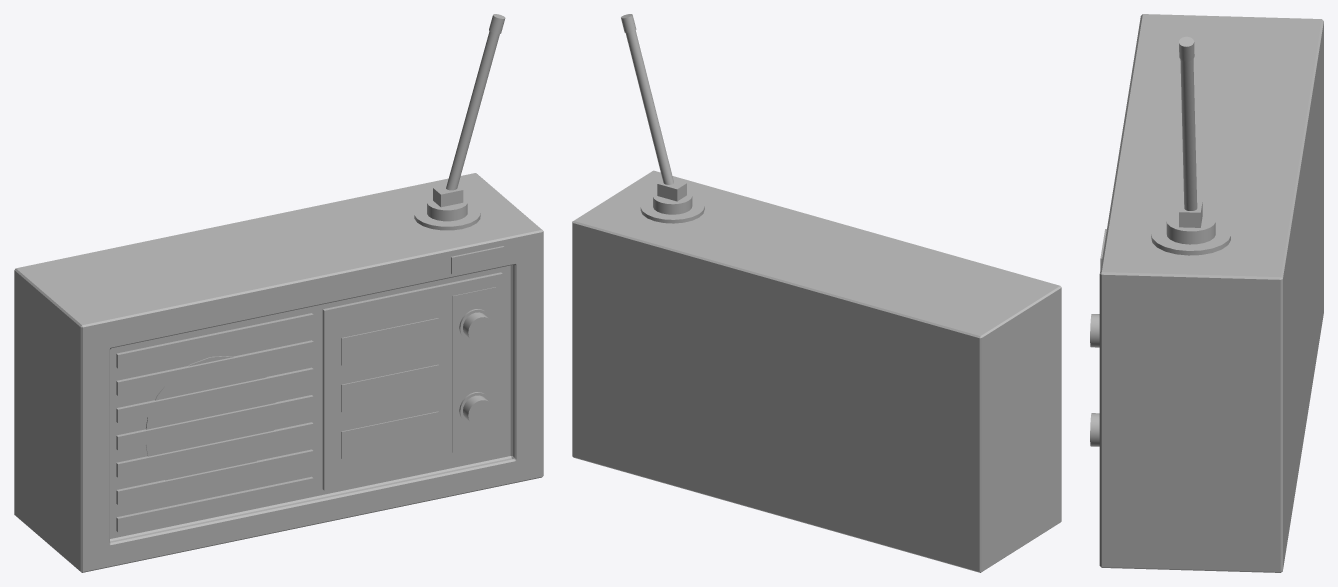
File: radio.glb
The picture shows the model from 3 angles, left to right: view 1: azimuth 30°, elevation 25°; view 2: azimuth 150°, elevation 25°; view 3: azimuth 270°, elevation 25°; orthographic projection. The views are drawn at different scales.
Visible parts, largest first — view 1: SpaceShip radioPart_1.001, SpaceShip radioPart_8.001, SpaceShip radioPart_2.001, SpaceShip radioPart_9.001, SpaceShip radioPart_3.001, SpaceShip radioPart_10.001, SpaceShip radioPart_11.001, SpaceShip radioPart_12.001, SpaceShip radioPart_16.001, SpaceShip radioPart_13.001, SpaceShip radioPart_14.001, SpaceShip radioPart_6.001 (+2 smaller); view 2: SpaceShip radioPart_1.001, SpaceShip radioPart_16.001, SpaceShip radioPart_14.001, SpaceShip radioPart_15.001; view 3: SpaceShip radioPart_1.001, SpaceShip radioPart_16.001, SpaceShip radioPart_14.001, SpaceShip radioPart_15.001, SpaceShip radioPart_17.001, SpaceShip radioPart_18.001, SpaceShip radioPart_7.001, SpaceShip radioPart_6.001.
Boxes of the visible parts, box(x1,y1,x2,y2) form: SpaceShip radioPart_1.001: box(14, 173, 543, 572); SpaceShip radioPart_8.001: box(116, 313, 313, 532); SpaceShip radioPart_2.001: box(322, 272, 502, 490); SpaceShip radioPart_9.001: box(146, 356, 275, 491); SpaceShip radioPart_3.001: box(452, 287, 496, 452); SpaceShip radioPart_10.001: box(341, 318, 438, 365); SpaceShip radioPart_11.001: box(341, 364, 438, 412); SpaceShip radioPart_12.001: box(341, 411, 438, 458); SpaceShip radioPart_16.001: box(446, 31, 499, 190); SpaceShip radioPart_13.001: box(451, 246, 504, 274); SpaceShip radioPart_14.001: box(414, 201, 480, 230); SpaceShip radioPart_6.001: box(463, 312, 493, 342); SpaceShip radioPart_1.001: box(572, 170, 1061, 572); SpaceShip radioPart_16.001: box(625, 30, 673, 184); SpaceShip radioPart_14.001: box(640, 196, 704, 223); SpaceShip radioPart_15.001: box(653, 190, 692, 214); SpaceShip radioPart_1.001: box(1099, 14, 1323, 572); SpaceShip radioPart_16.001: box(1180, 59, 1197, 210); SpaceShip radioPart_14.001: box(1151, 221, 1230, 255); SpaceShip radioPart_15.001: box(1166, 212, 1215, 244); SpaceShip radioPart_17.001: box(1179, 199, 1202, 227); SpaceShip radioPart_18.001: box(1179, 36, 1194, 61); SpaceShip radioPart_7.001: box(1090, 413, 1099, 446); SpaceShip radioPart_6.001: box(1090, 314, 1099, 347).
Bounding box in the file's own units: 0.4783 × 0.441 × 0.1785.
Materials: 1 (1 with a texture image).
